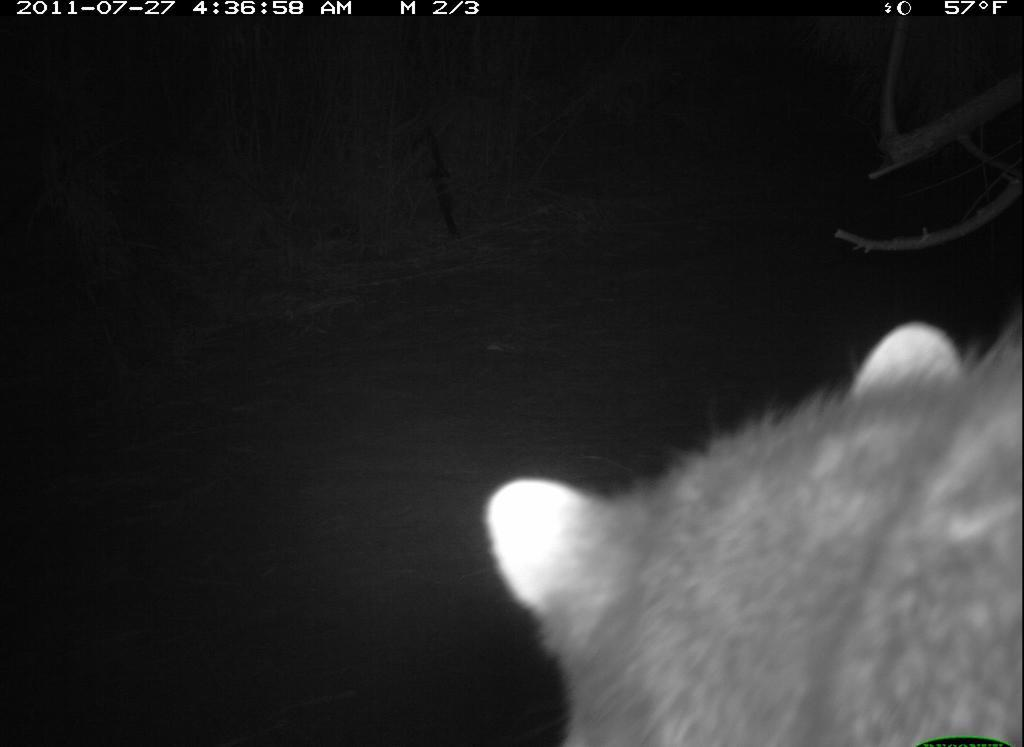raccoon: (468, 304, 1021, 747)
